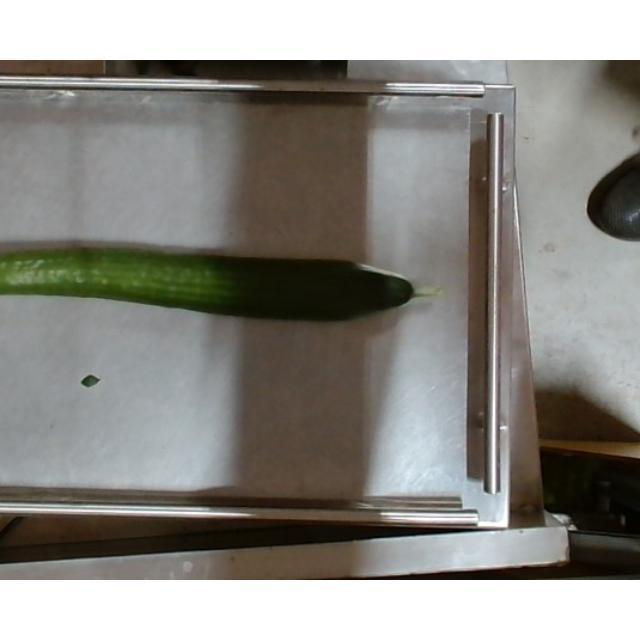cucumber: (0, 245, 448, 329)
